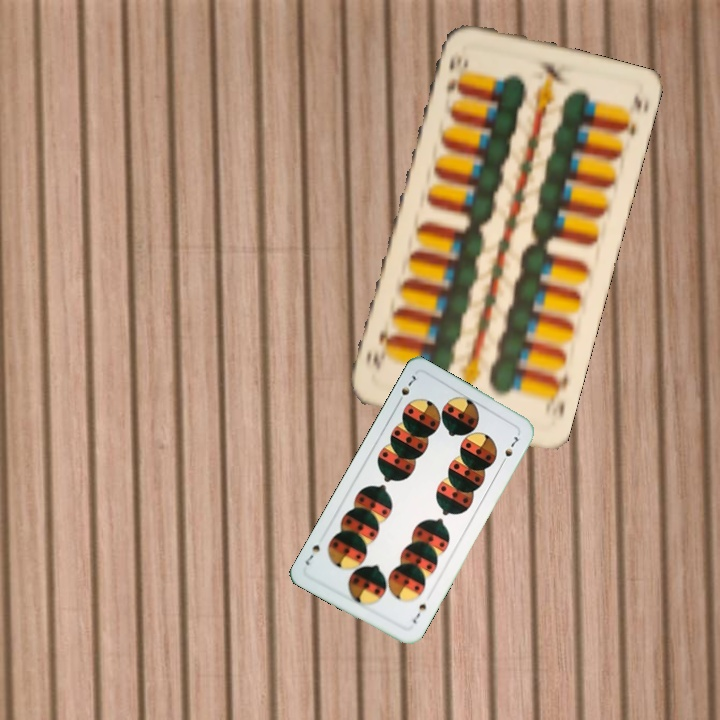E10: (442, 47, 469, 97), (548, 371, 571, 421)
S7: (393, 371, 419, 407), (409, 599, 429, 627)
